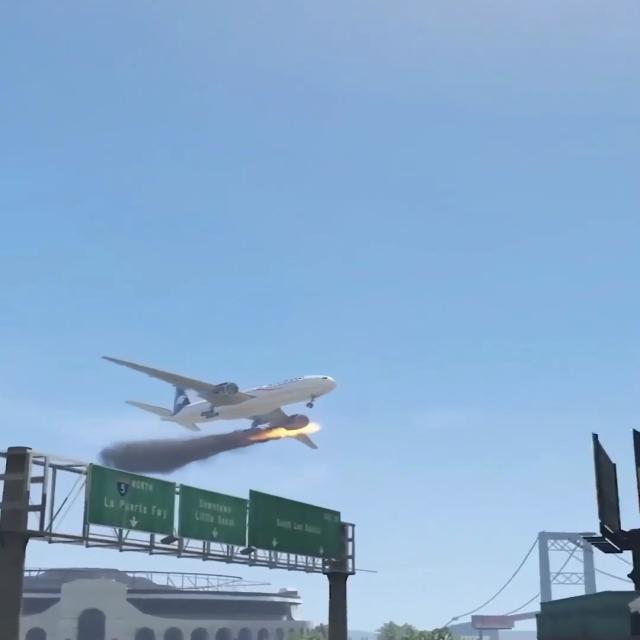Fire: (252, 421, 318, 442)
Smoke: (96, 427, 251, 474)
